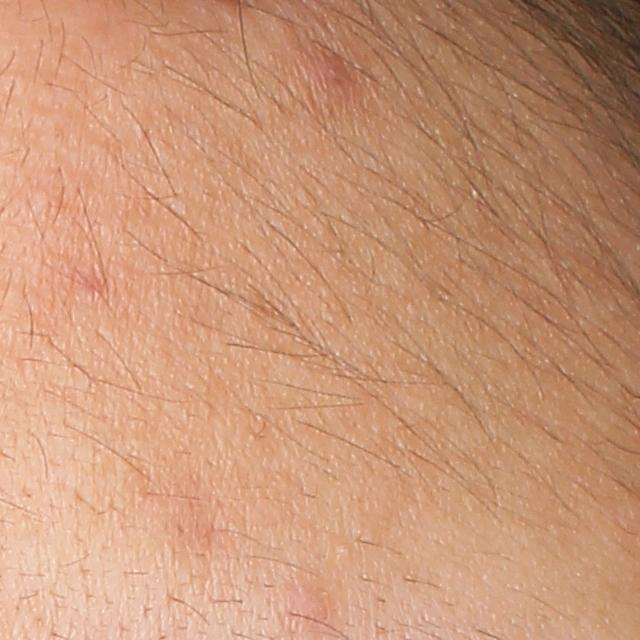papule: (303, 44, 353, 97), (281, 586, 330, 631)
